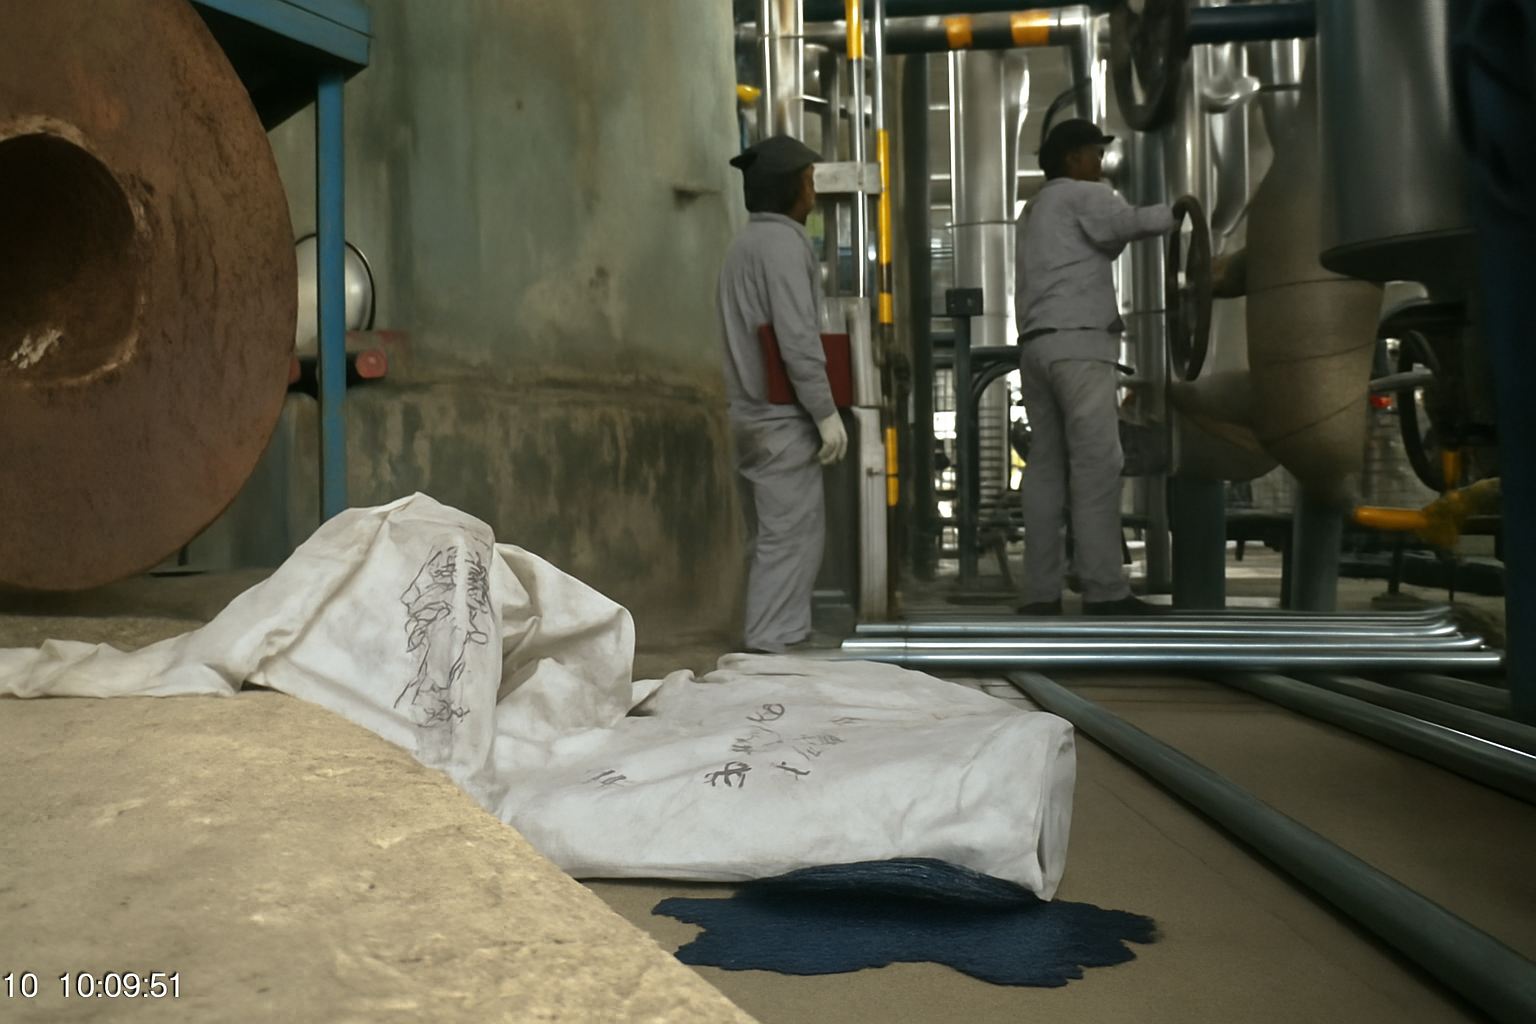oil_leakage: (624, 818, 1191, 1001)
